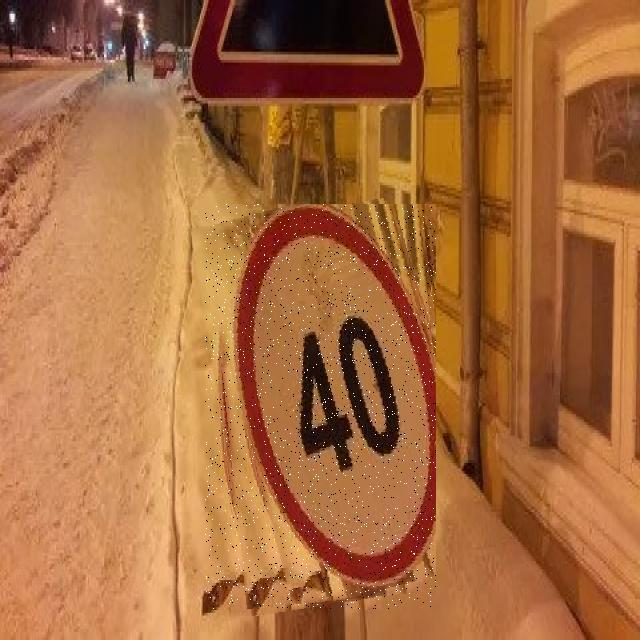speed limit 40: (205, 204, 436, 609)
